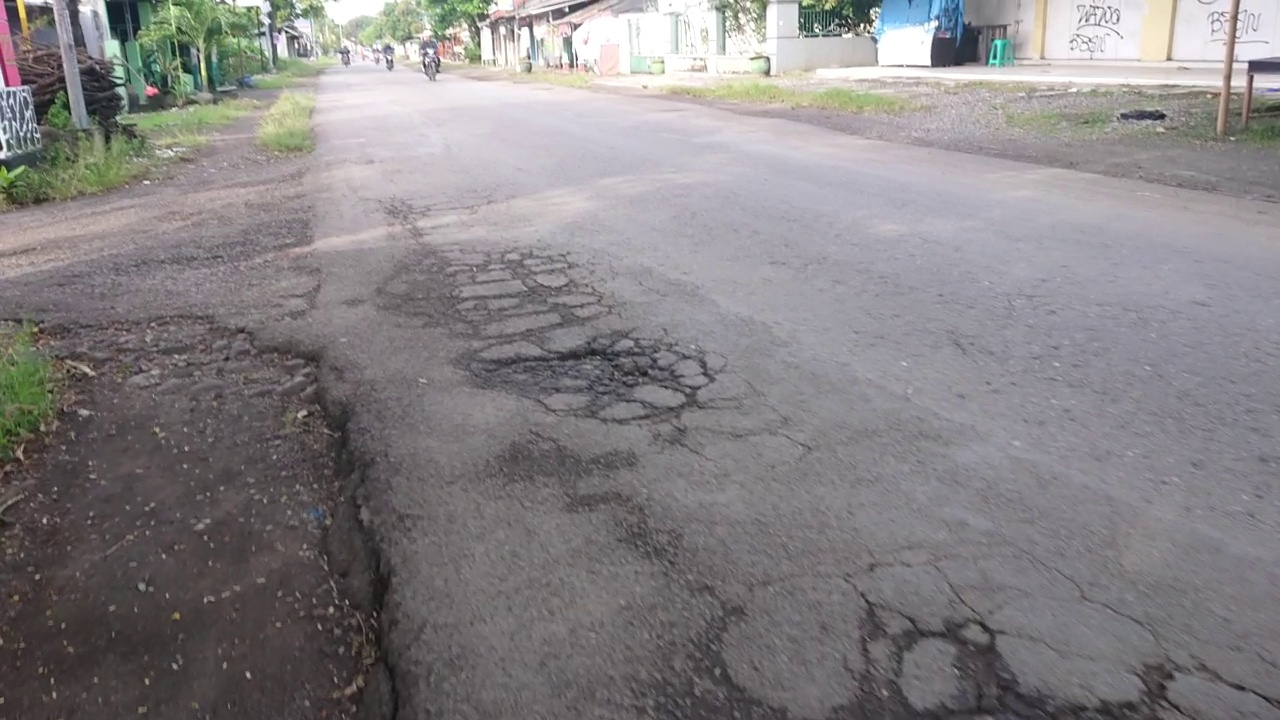Retak: (835, 590, 1280, 720), (411, 250, 690, 447), (566, 463, 738, 685)
